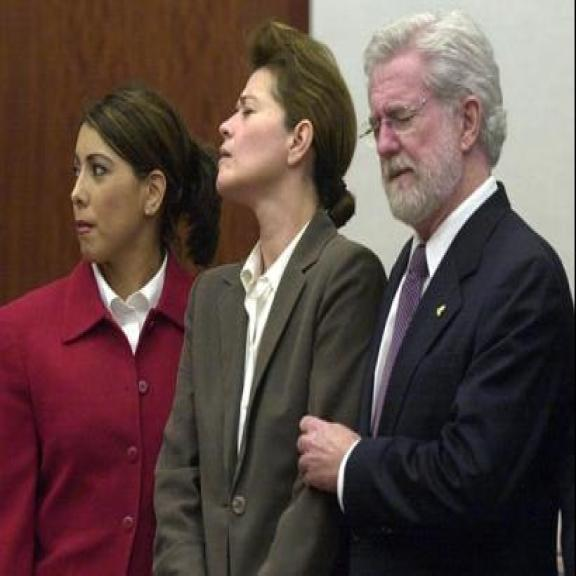face: (367, 50, 484, 224), (215, 49, 319, 206), (69, 118, 169, 264)
